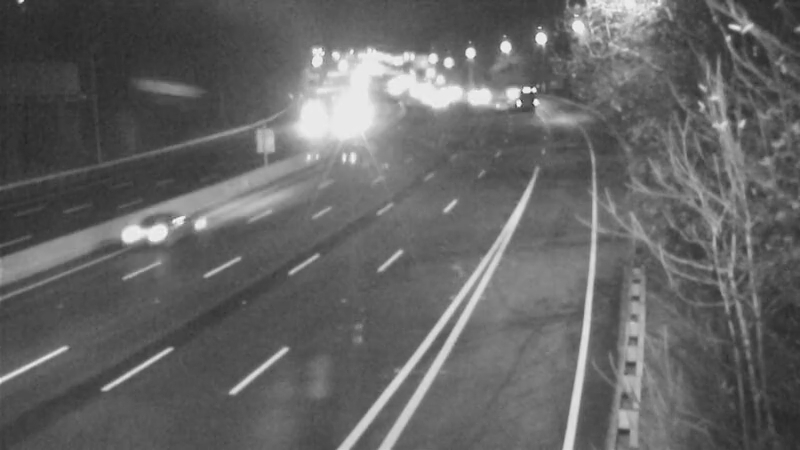vehicle: (121, 191, 201, 271), (494, 66, 544, 116), (453, 71, 503, 121), (409, 75, 459, 125), (285, 94, 335, 144), (327, 93, 377, 143)
